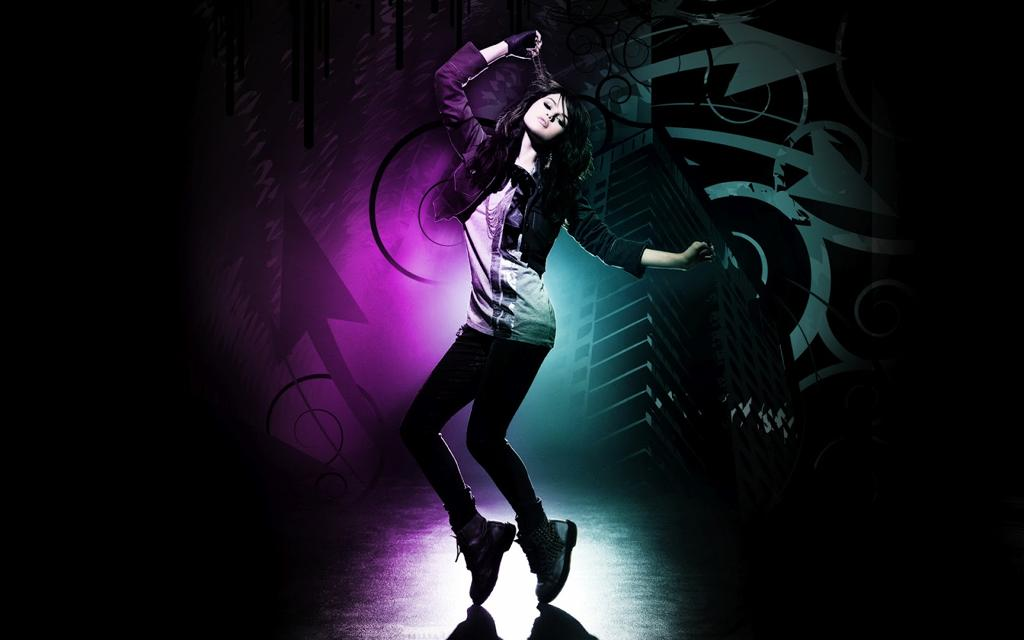face: (522, 84, 578, 136)
